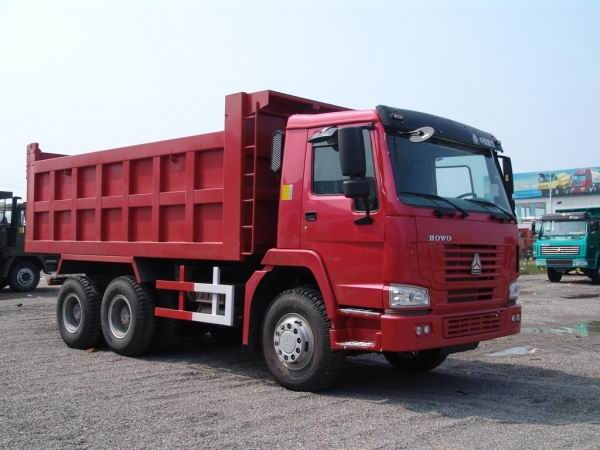truck: (21, 85, 527, 394)
